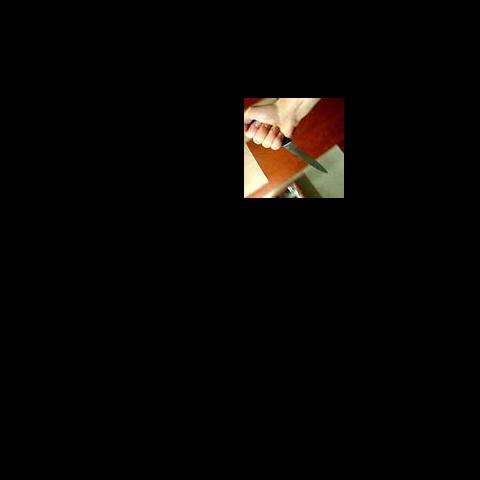knife: (282, 137, 328, 174)
